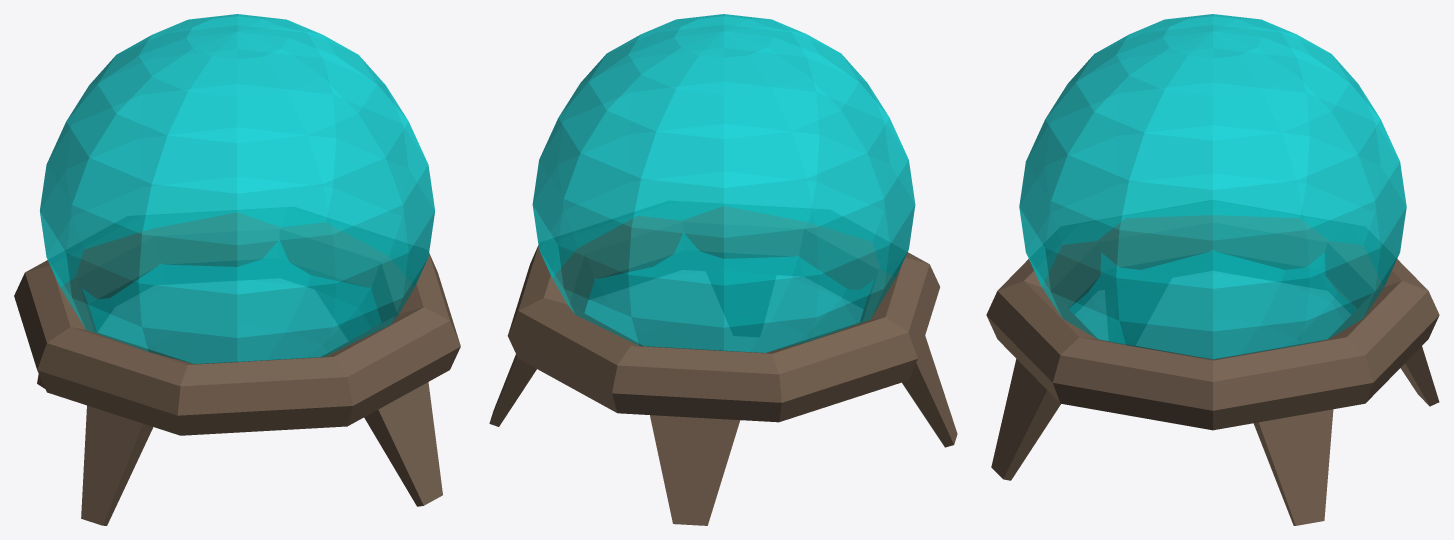
The model's file is SM_BouleDeCristal.fbx.
3 views of the same model, side by side, from view 1: azimuth 30°, elevation 25°; view 2: azimuth 150°, elevation 25°; view 3: azimuth 270°, elevation 25° (orthographic). The views are drawn at different scales.
Visible parts, largest first — view 1: pTorus2; view 2: pTorus2; view 3: pTorus2.
Part boxes in pixels (x1=…): pTorus2: x1=14, y1=14, x2=460, y2=525; pTorus2: x1=489, y1=14, x2=957, y2=525; pTorus2: x1=986, y1=14, x2=1439, y2=525.
Bounding box in the file's own units: 1.38 × 1.36 × 1.38.
